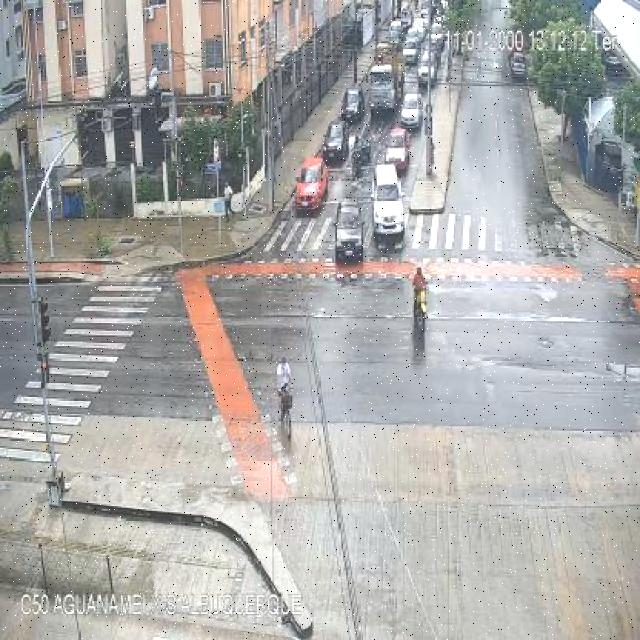Car: (372, 166, 406, 245), (331, 197, 365, 264), (293, 158, 326, 216), (383, 126, 412, 174), (321, 120, 346, 161), (340, 87, 364, 123), (399, 94, 423, 128), (418, 53, 440, 85), (509, 51, 528, 80), (402, 41, 419, 66), (429, 27, 445, 50)
Truck: (367, 64, 401, 114)
